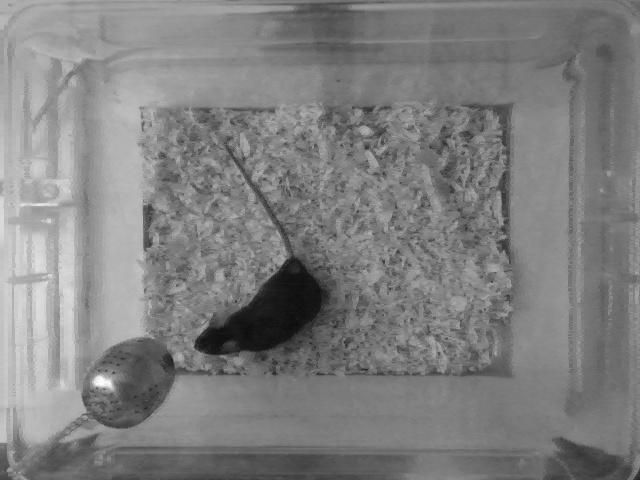mice: (192, 140, 332, 359)
